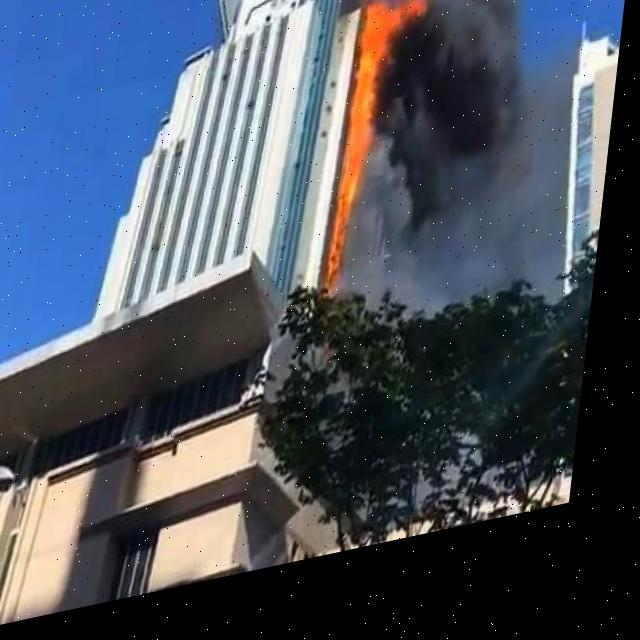Fire: (332, 0, 432, 323)
